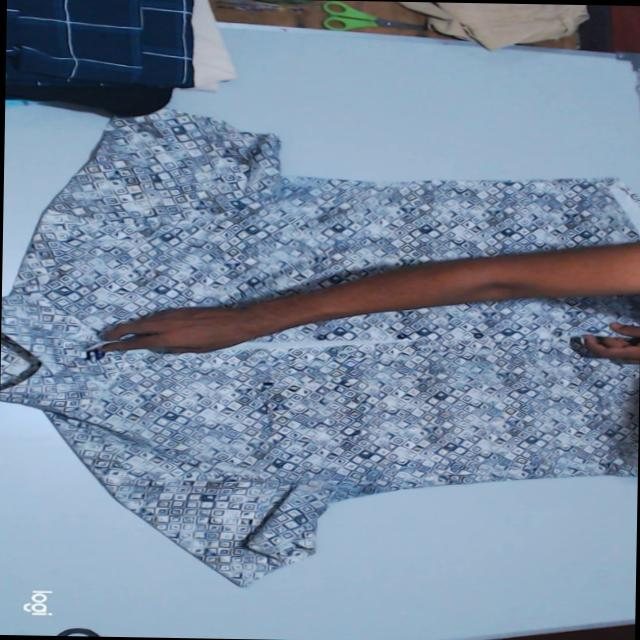new-garment: (0, 109, 640, 586)
